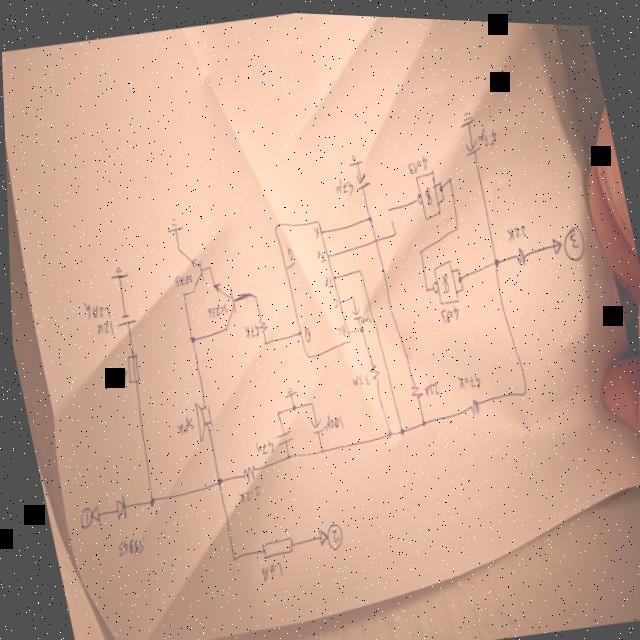capacitor: (271, 425, 292, 447), (351, 168, 371, 190), (462, 132, 481, 154), (305, 412, 322, 433), (347, 302, 360, 319)
crossover: (372, 233, 378, 242)
diode: (108, 491, 127, 524)
ground: (456, 104, 476, 126), (162, 213, 184, 233), (106, 263, 127, 281), (279, 383, 296, 399), (346, 148, 362, 165)
junction: (515, 378, 529, 395), (144, 495, 154, 508), (395, 422, 404, 434), (386, 204, 393, 219), (187, 333, 195, 344), (212, 474, 220, 485), (491, 252, 499, 263), (384, 425, 391, 437), (455, 271, 462, 282), (288, 400, 295, 409), (282, 450, 289, 459), (417, 415, 423, 425), (446, 171, 452, 181), (366, 212, 372, 221), (205, 262, 211, 271), (422, 282, 428, 291), (416, 244, 422, 253), (250, 290, 256, 299), (453, 220, 459, 229), (356, 323, 362, 332), (228, 553, 233, 563), (437, 181, 443, 189), (273, 407, 278, 416), (391, 226, 396, 235), (317, 444, 322, 453), (179, 289, 184, 298), (174, 244, 179, 253), (307, 398, 312, 406), (356, 264, 361, 272), (261, 338, 266, 345), (348, 291, 353, 298), (458, 282, 463, 288), (454, 262, 458, 268), (437, 177, 441, 182), (441, 193, 444, 197)
resistor: (254, 531, 292, 560), (511, 240, 527, 264), (237, 462, 255, 483), (365, 358, 380, 382), (406, 377, 422, 398), (464, 392, 479, 414), (255, 313, 267, 332)
source: (111, 309, 136, 329)
terminal: (84, 499, 100, 526), (548, 229, 563, 253), (314, 524, 324, 543)
text: (558, 217, 587, 259), (110, 532, 143, 560), (80, 295, 110, 324), (319, 519, 342, 550), (254, 557, 281, 582), (317, 407, 343, 432), (474, 119, 499, 145), (233, 482, 260, 506), (405, 149, 430, 173), (331, 171, 355, 195), (171, 412, 193, 437), (454, 368, 480, 388), (251, 436, 275, 457), (73, 503, 91, 531), (203, 300, 228, 320), (437, 299, 459, 321), (105, 365, 128, 386), (504, 218, 527, 238), (92, 318, 113, 338), (348, 368, 368, 387), (419, 376, 439, 395), (171, 270, 193, 287), (241, 321, 259, 339), (298, 319, 311, 343), (331, 320, 345, 336), (356, 309, 370, 324), (321, 271, 333, 287), (283, 241, 293, 260), (310, 221, 320, 238), (314, 246, 325, 261), (329, 294, 337, 307)
transistor: (211, 278, 239, 326), (177, 250, 206, 295)
